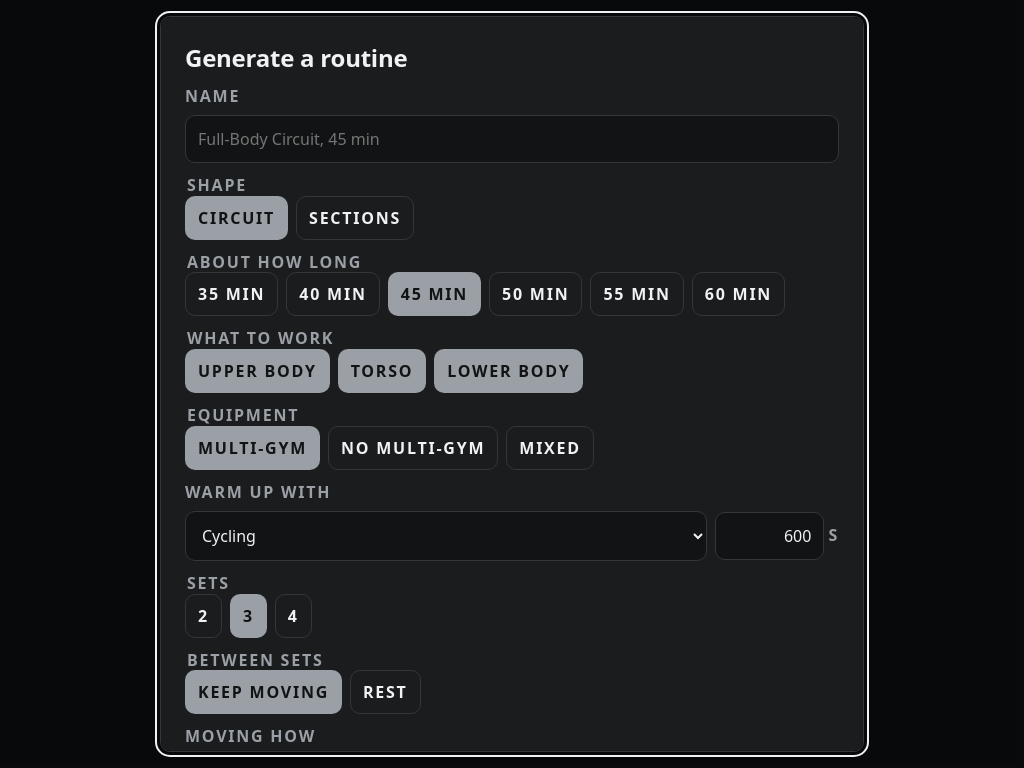
it: GenerateDialog › offers the declared formats only for the sections shape
expect the text "EMOM, 30/30, AMRAP" is not shown: met
Step 1. Click the button "Sections" → coordinates (355, 218), box [296, 196, 414, 240]
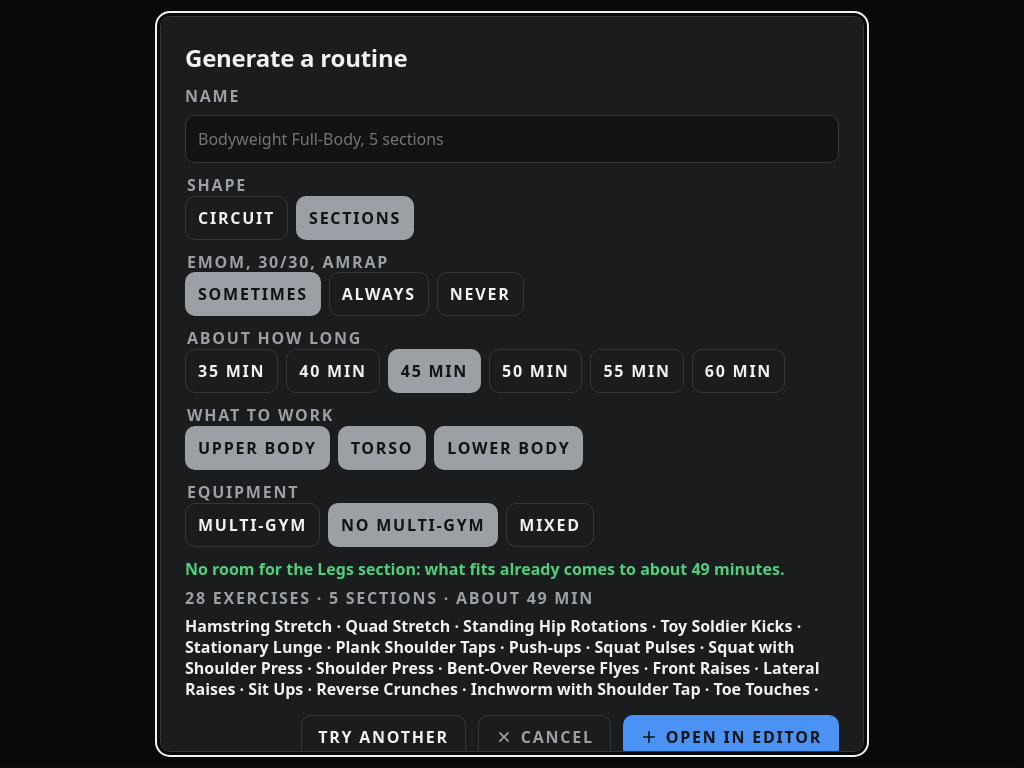
expect the text "EMOM, 30/30, AMRAP" is shown: met, box [185, 252, 391, 272]
expect the button "Sometimes" is shown: met, box [185, 272, 321, 316]
expect the button "Always" is shown: met, box [329, 272, 429, 316]
